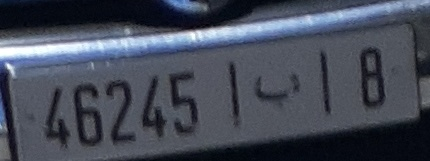2: (105, 74, 136, 145)
4: (38, 83, 72, 153), (138, 72, 166, 145)
5: (168, 68, 202, 139)
6: (73, 79, 103, 154)
8: (358, 42, 393, 112)
b: (248, 67, 308, 113)
